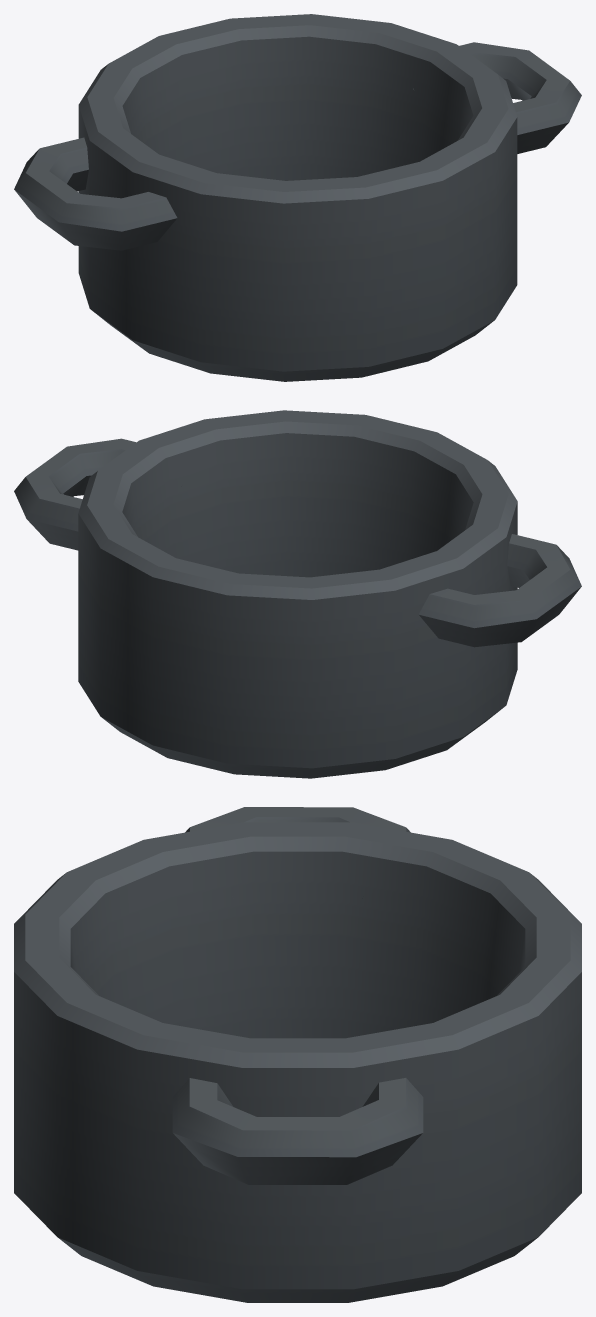
File: pot-b.glb
3 renders of one model, top to bottom at view 1: azimuth 30°, elevation 25°; view 2: azimuth 150°, elevation 25°; view 3: azimuth 270°, elevation 25°, orthographic. The views are drawn at different scales.
Parts seen in each view (by area): view 1: pot_B; view 2: pot_B; view 3: pot_B.
Part boxes in pixels (box(x1,y1,x2,y2)): pot_B: box(14, 14, 581, 381); pot_B: box(14, 410, 581, 778); pot_B: box(14, 807, 581, 1302).
Size of the model in its own units: 1.4 by 0.4999 by 1.
1 material, 1 textured.
